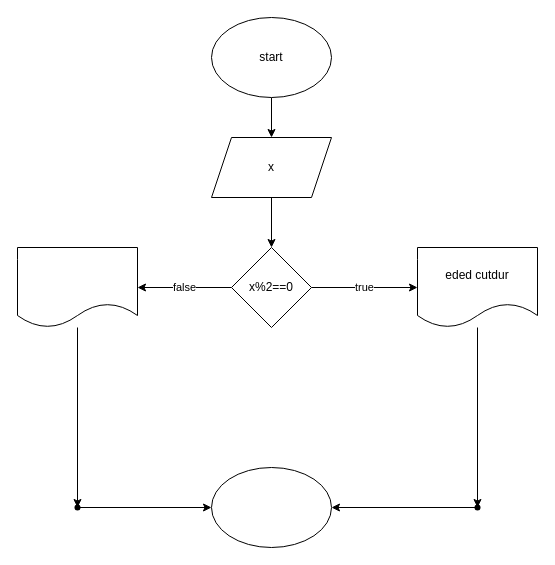
This 555x565 diagram has some shape labels left out. Each missing label, with the centre of its shape:
cut eded deyil: (77,287)
stop: (271,507)
